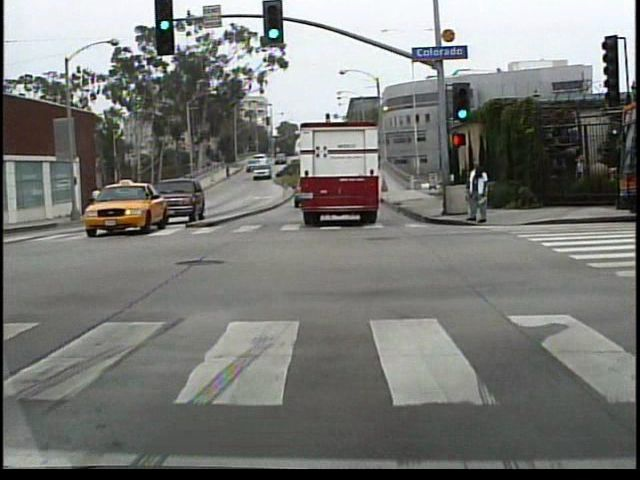person: (464, 162, 490, 226)
